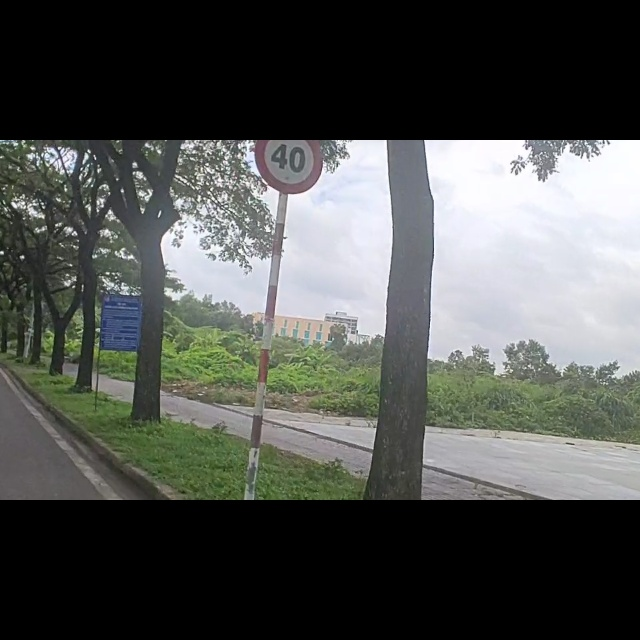Tốc độ tối đa cho phép 40km/h: (255, 140, 326, 191)
